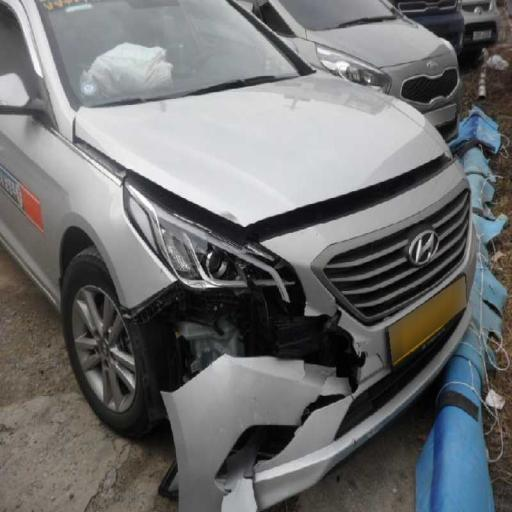broken: (100, 168, 374, 430)
